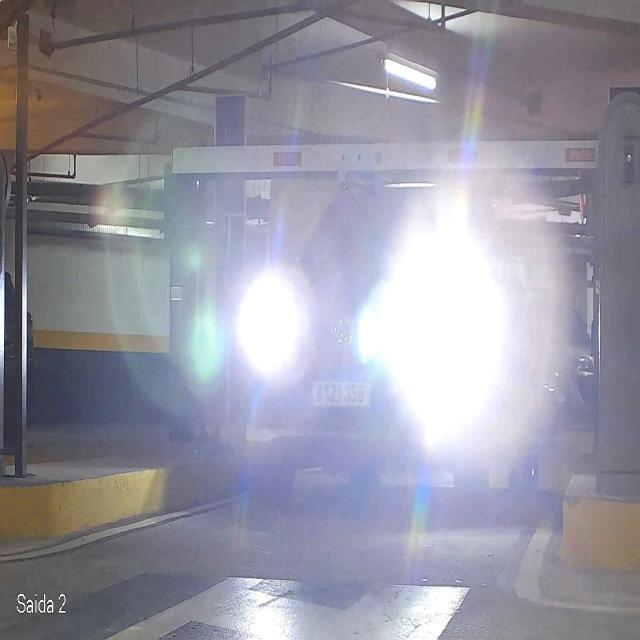mercosul_plate: (309, 378, 373, 408)
